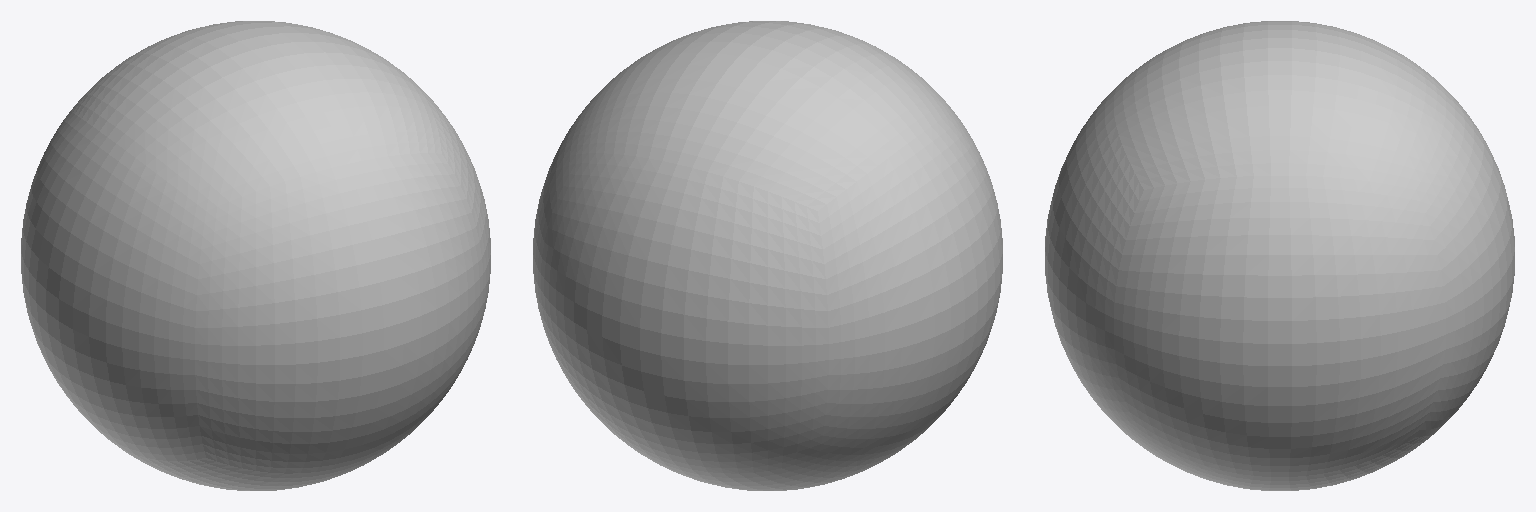
Rendered from test_sphere_texture_with_clouds.obj.
3 views of the same model, side by side, from view 1: azimuth 30°, elevation 25°; view 2: azimuth 150°, elevation 25°; view 3: azimuth 270°, elevation 25° (orthographic).
Parts seen in each view (by area): view 1: clouds; view 2: clouds; view 3: clouds.
Boxes of the visible parts, box(x1,y1,x2,y2) form: clouds: box(21, 21, 490, 490); clouds: box(533, 21, 1002, 490); clouds: box(1045, 21, 1514, 490).
Bounding box in the file's own units: 2.39 × 2.39 × 2.39.